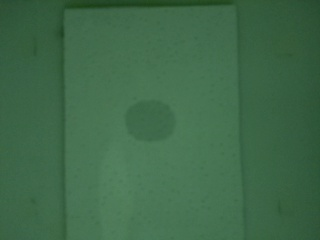Water_detected: (126, 100, 169, 140)
